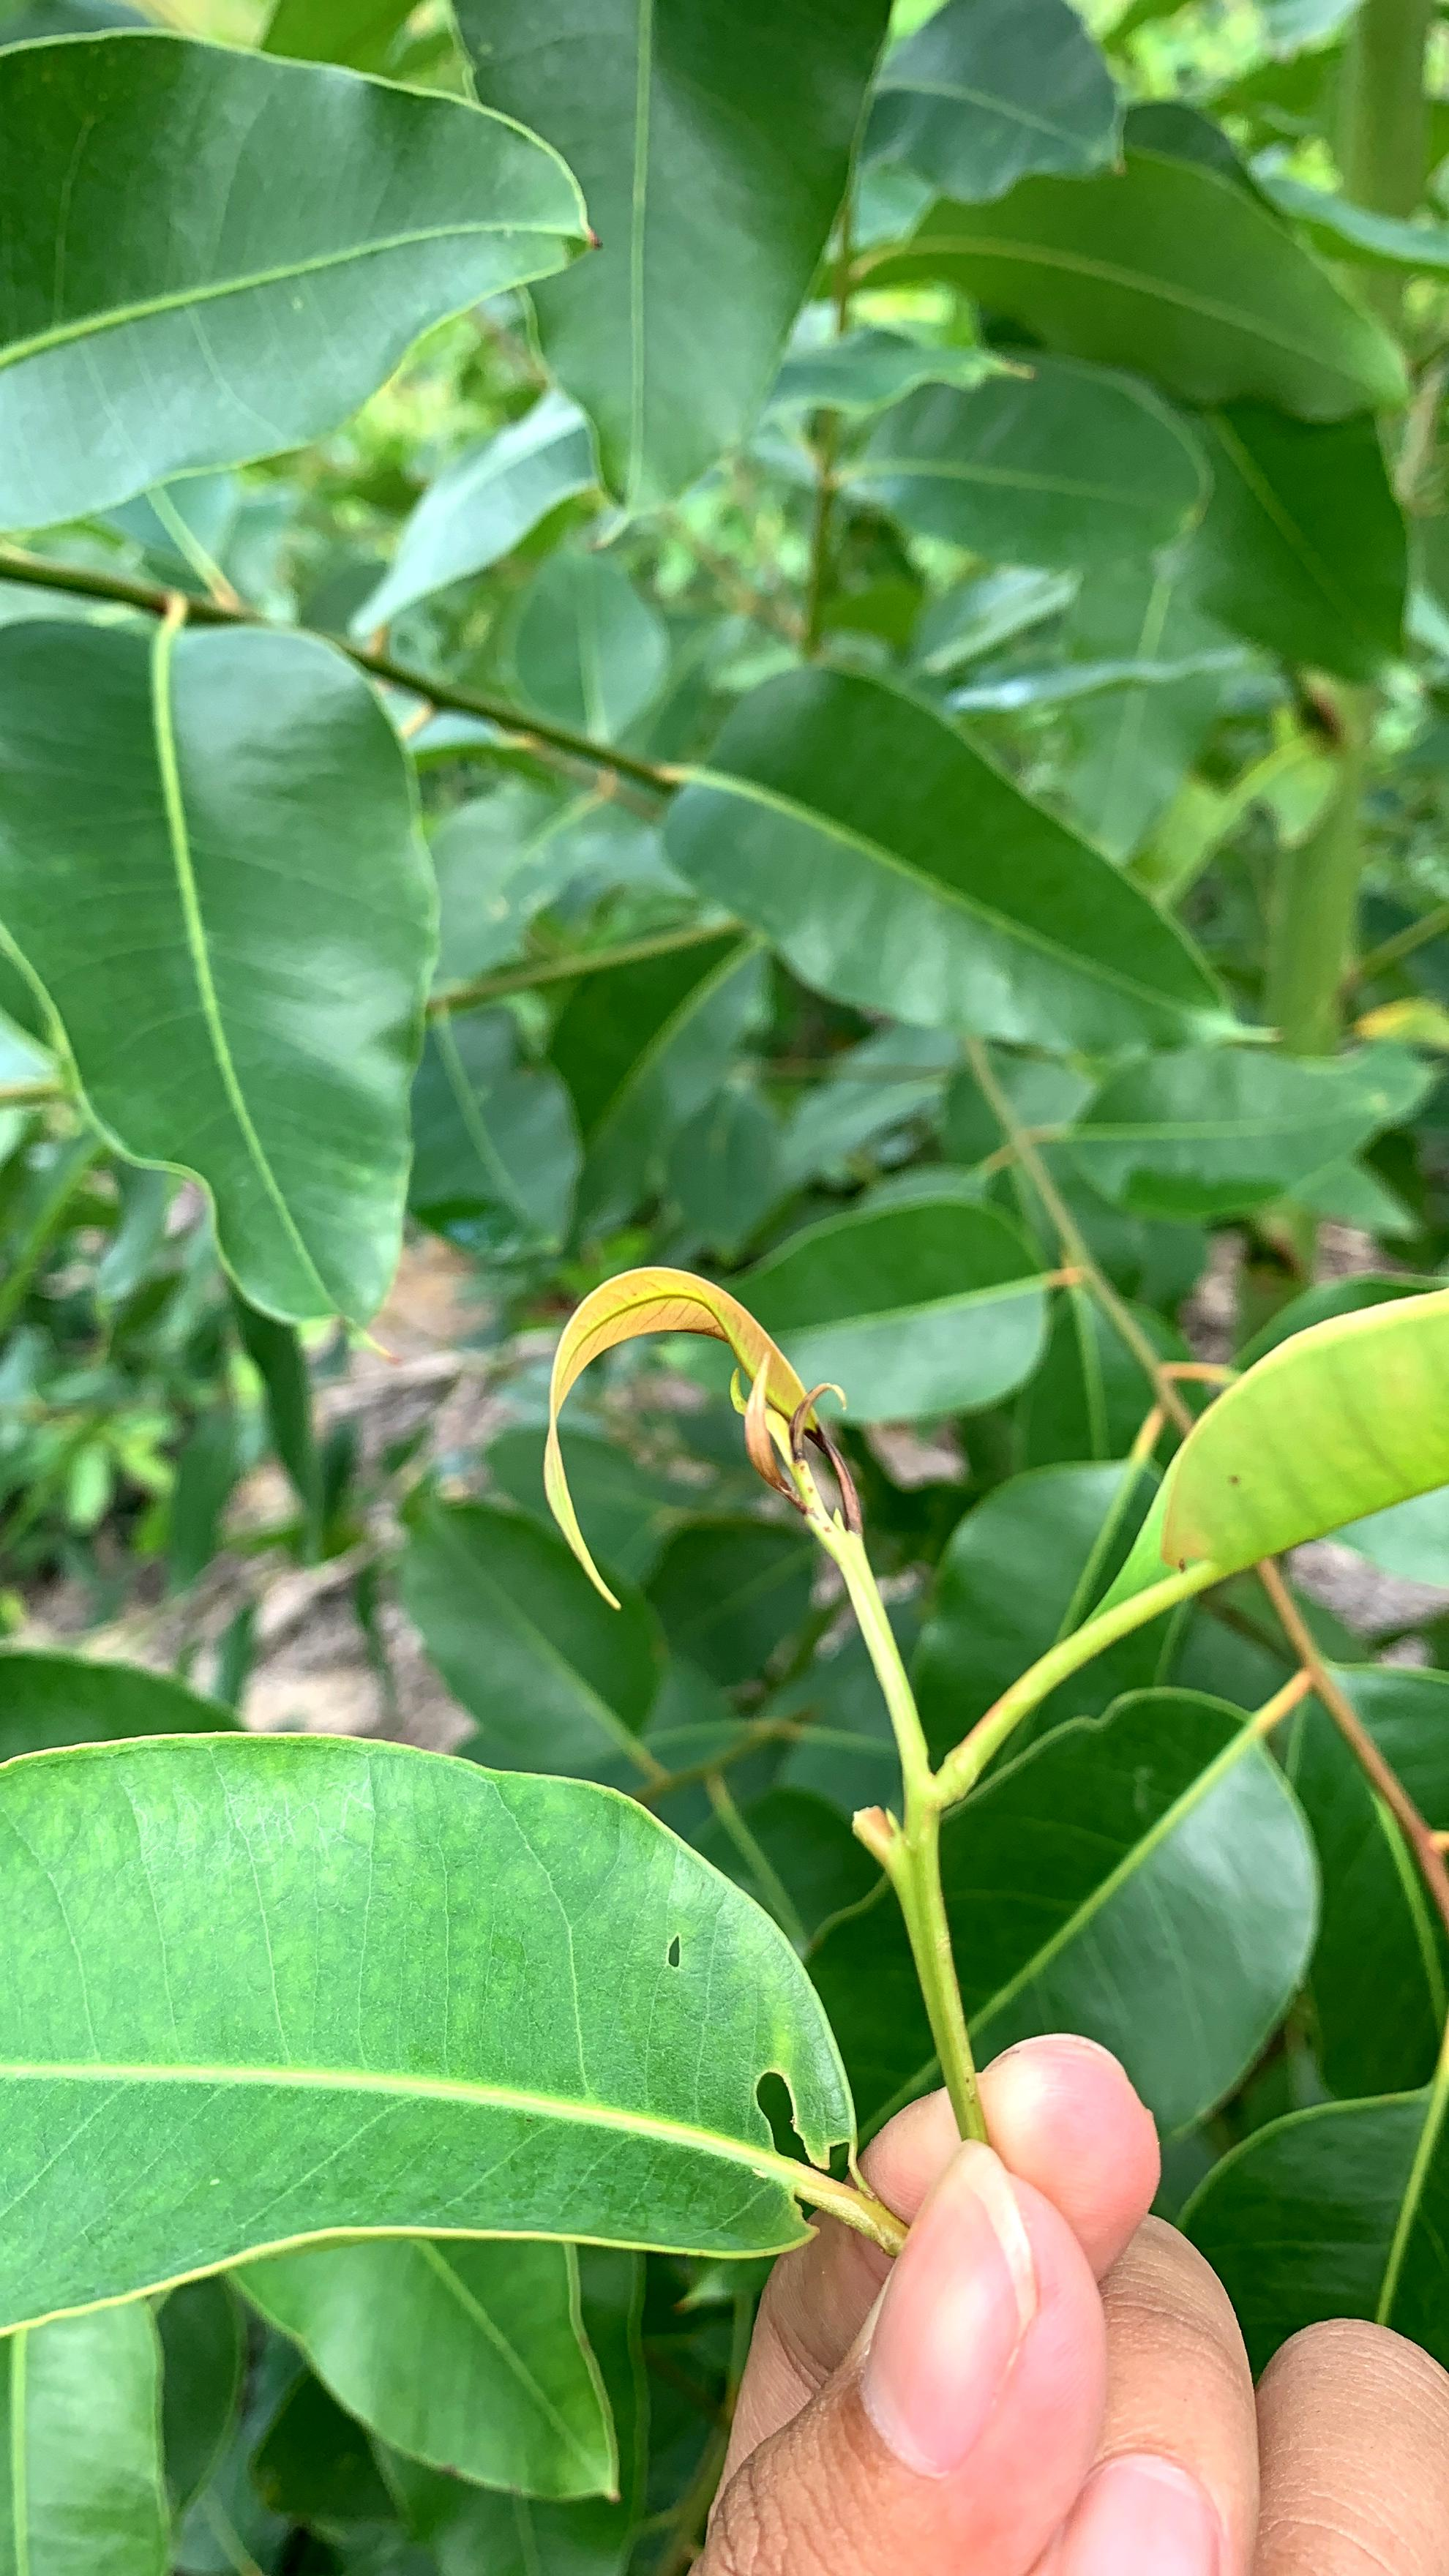Helopeltis-Withered Sprout: (448, 1180, 886, 1723)
